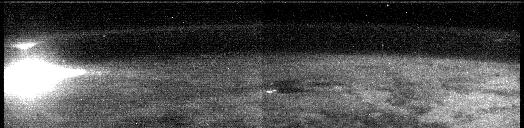negative: (8, 40, 41, 55)
